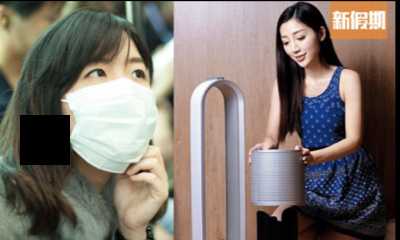with_mask: (62, 54, 159, 175)
without_mask: (278, 26, 321, 70)
